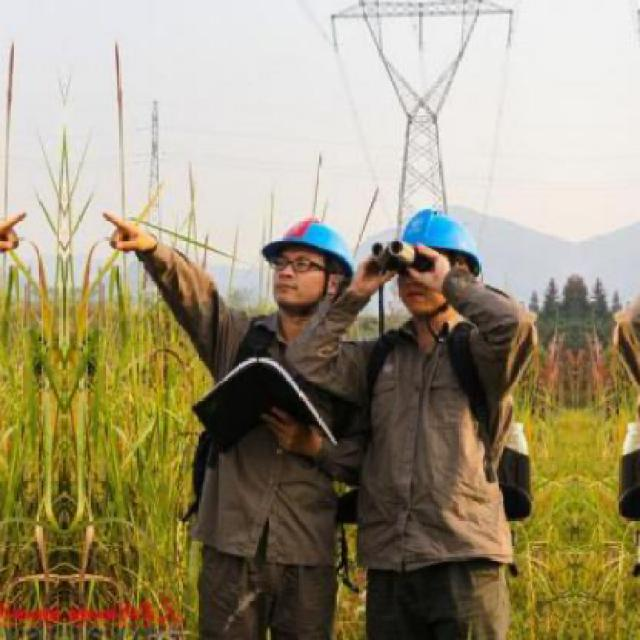helmet: (254, 203, 360, 322), (394, 208, 489, 297)
